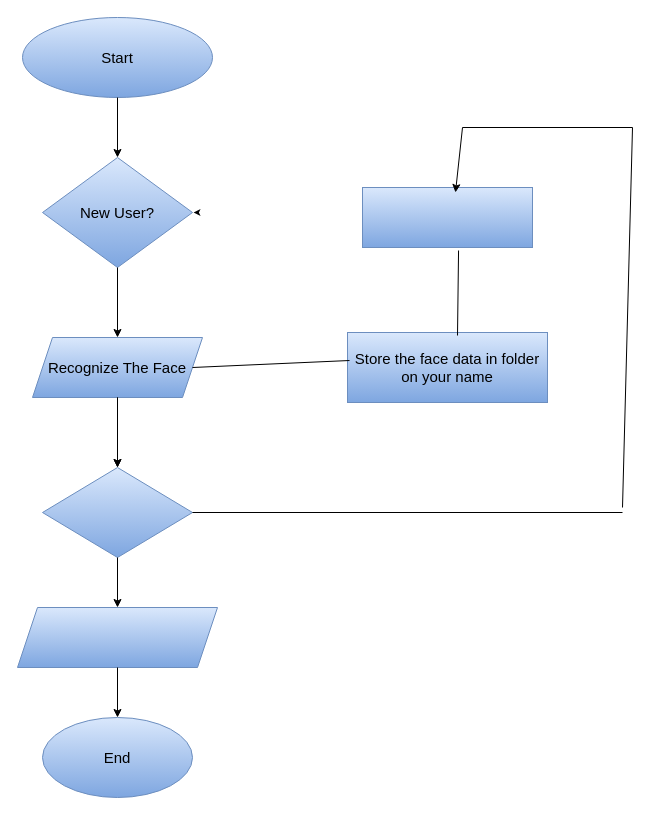
Image size: 651x815. Some labels were removed from this diagram. Here are the shapes that lost their labels. From the top down, the box of each, then its label:
(362, 186, 532, 248): Give Your Photograph
(42, 466, 192, 558): Face Recognition
(16, 606, 218, 668): Stored in CS file with reconition date and time
